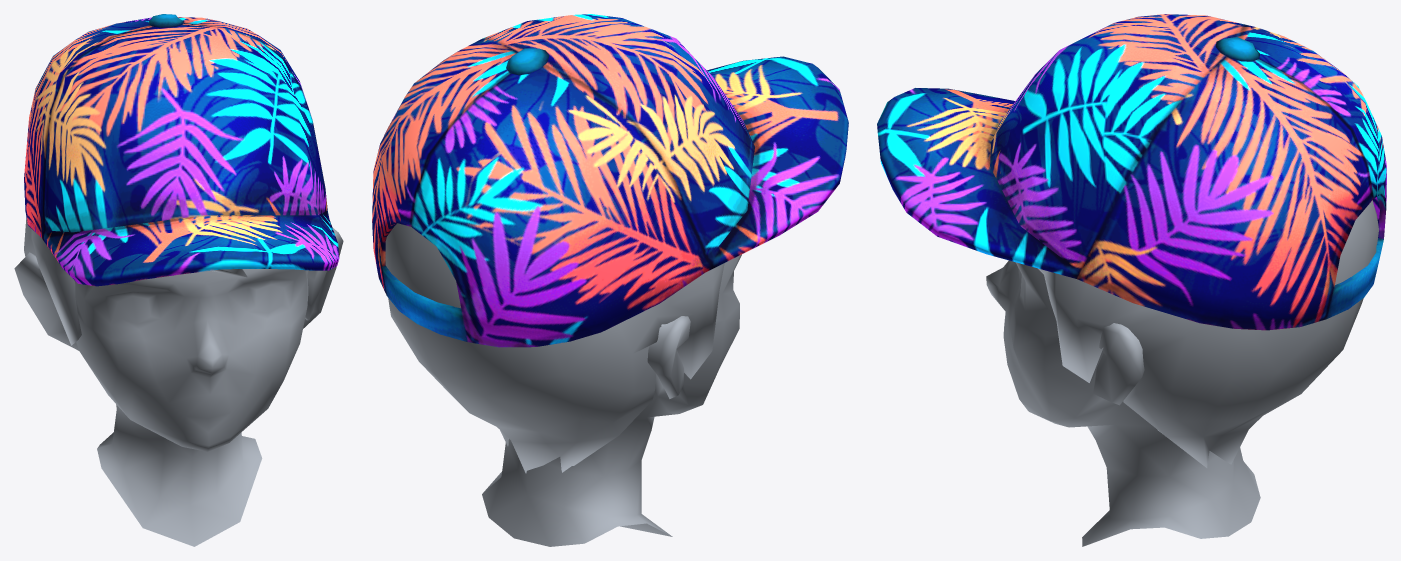
File: jungle-techno-head.gltf
3 views of the same model, side by side, from view 1: azimuth 30°, elevation 25°; view 2: azimuth 150°, elevation 25°; view 3: azimuth 270°, elevation 25° (orthographic). The views are drawn at different scales.
Visible parts, largest first — view 1: jungle-techno-head; view 2: jungle-techno-head; view 3: jungle-techno-head.
Part boxes in pixels (box(x1,y1,x2,y2)): jungle-techno-head: box(14, 14, 343, 546); jungle-techno-head: box(372, 14, 848, 546); jungle-techno-head: box(877, 14, 1386, 546).
Size of the model in its own units: 0.5625 by 0.8287 by 0.7377.
2 materials, 1 textured.
